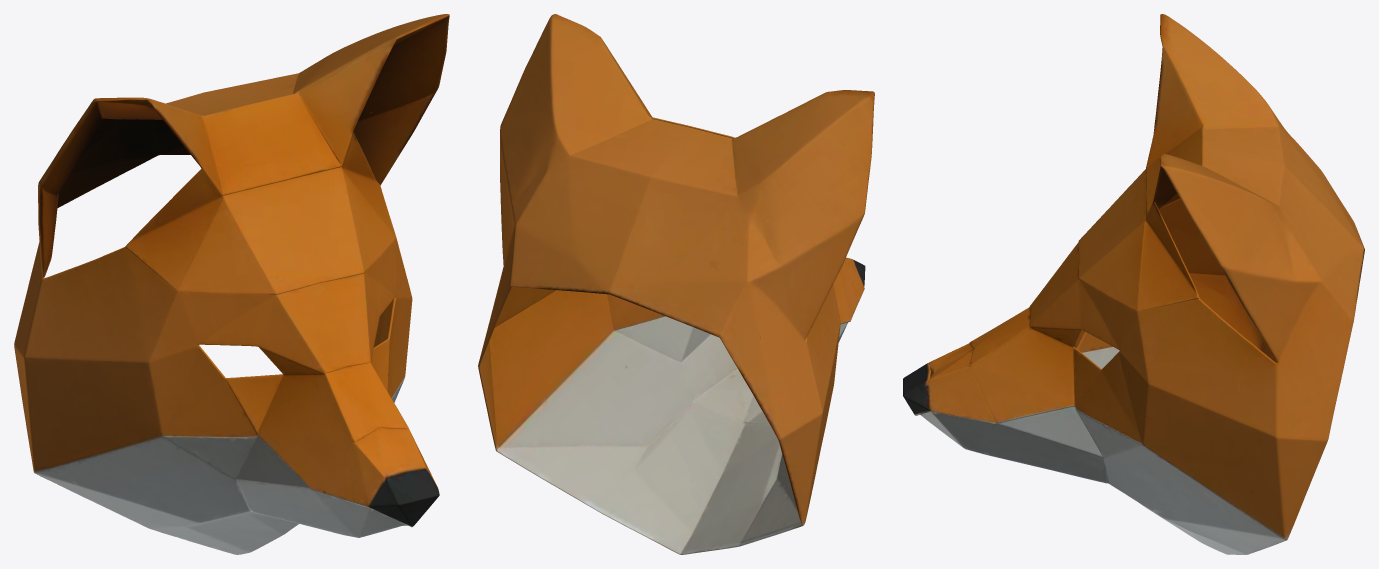
Rendered from fox-face.glb.
3 views of the same model, side by side, from view 1: azimuth 30°, elevation 25°; view 2: azimuth 150°, elevation 25°; view 3: azimuth 270°, elevation 25° (orthographic). The views are drawn at different scales.
Parts seen in each view (by area): view 1: material; view 2: material; view 3: material.
Boxes of the visible parts, left/top/right/bottom form: material: left=14, top=14, right=449, bottom=554; material: left=478, top=14, right=874, bottom=554; material: left=903, top=14, right=1364, bottom=554.
Bounding box in the file's own units: 0.7781 × 0.9767 × 0.881.
Materials: 1 (1 with a texture image).
